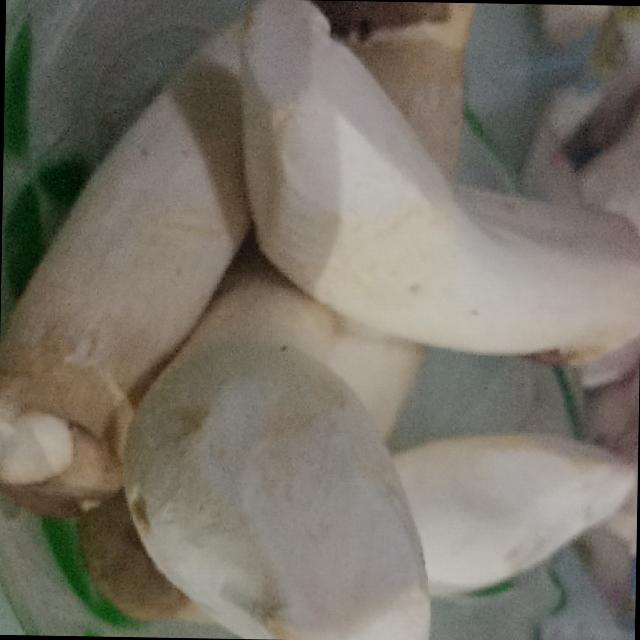Pleurotus eryngii: (212, 0, 640, 368), (0, 24, 266, 505), (84, 348, 452, 640)
